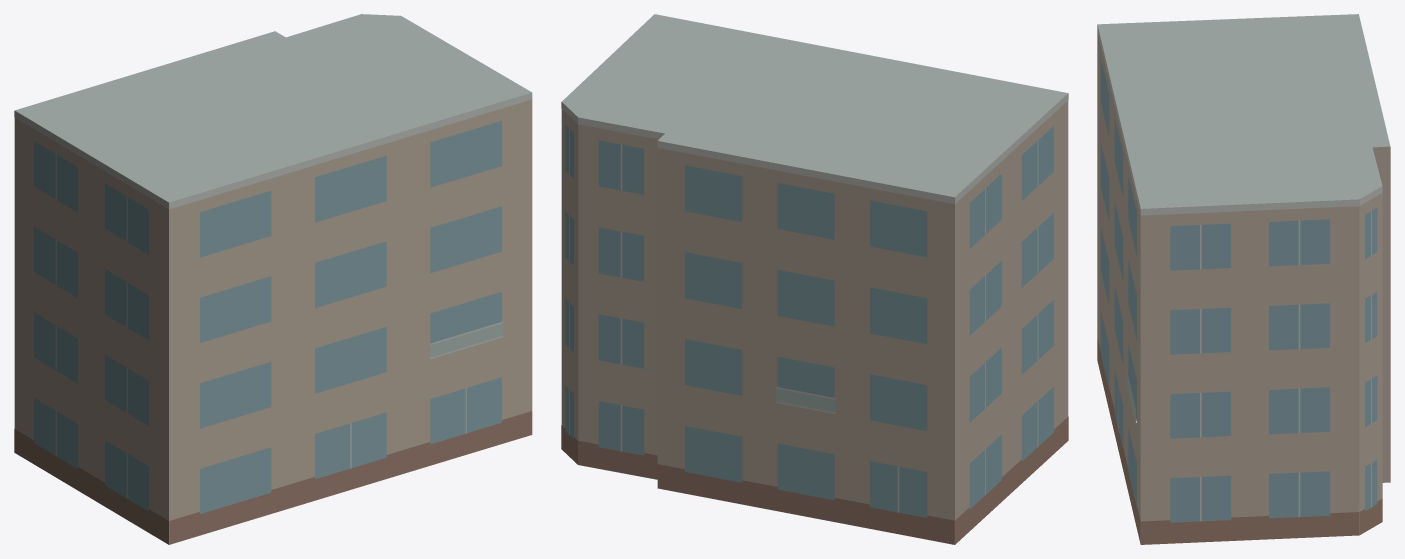
File: survey-upis-32681006.glb
3 renders of one model, left to right at view 1: azimuth 30°, elevation 25°; view 2: azimuth 150°, elevation 25°; view 3: azimuth 270°, elevation 25°, orthographic. The views are drawn at different scales.
Parts seen in each view (by area): view 1: survey-upis-32681006.tmp; view 2: survey-upis-32681006.tmp; view 3: survey-upis-32681006.tmp.
Part boxes in pixels (x1=…): survey-upis-32681006.tmp: x1=14, y1=14, x2=532, y2=544; survey-upis-32681006.tmp: x1=561, y1=14, x2=1068, y2=544; survey-upis-32681006.tmp: x1=1097, y1=14, x2=1390, y2=544.
Size of the model in its own units: 15.19 by 12.2 by 9.65.
